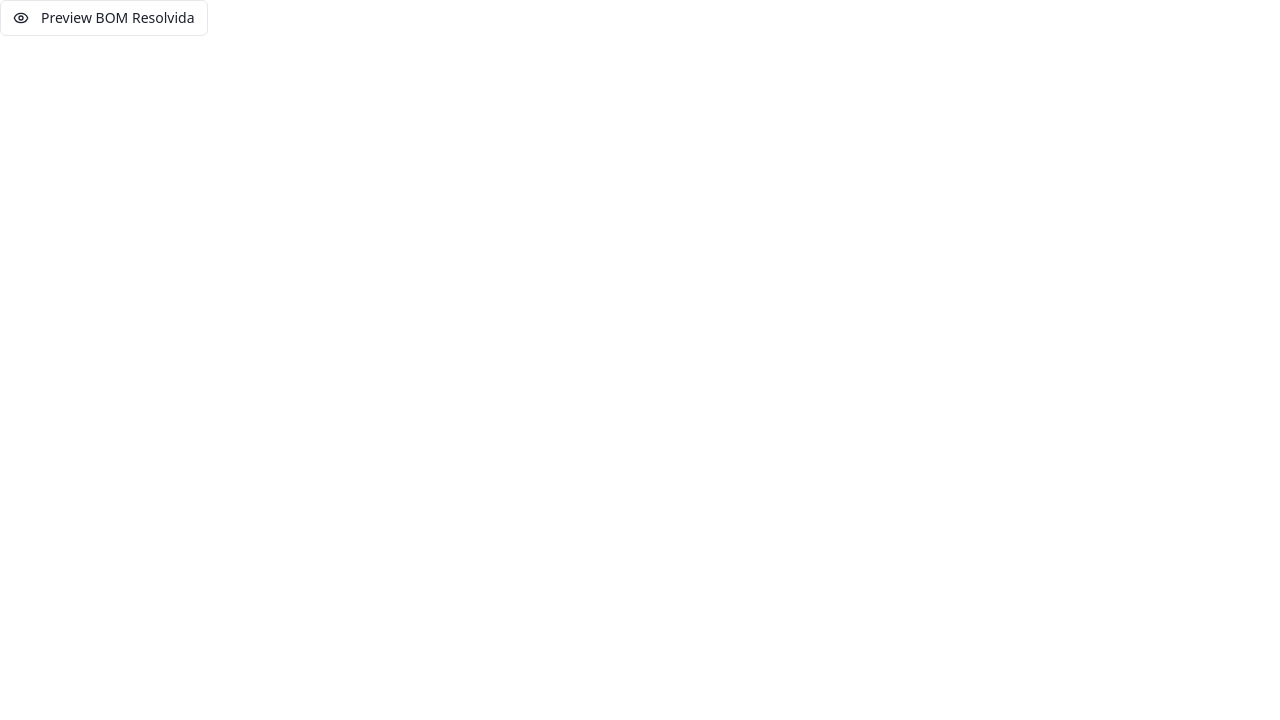
Scenario: BomResolvedPreview › Override chama bom_upsert_line com parent_bom_line_id e inheritance_action=override
The image size is (1280, 720).
Later steps or results of the test are not shown.
Click the button "Preview BOM Resolvida" at (104, 18), box [0, 0, 208, 36]
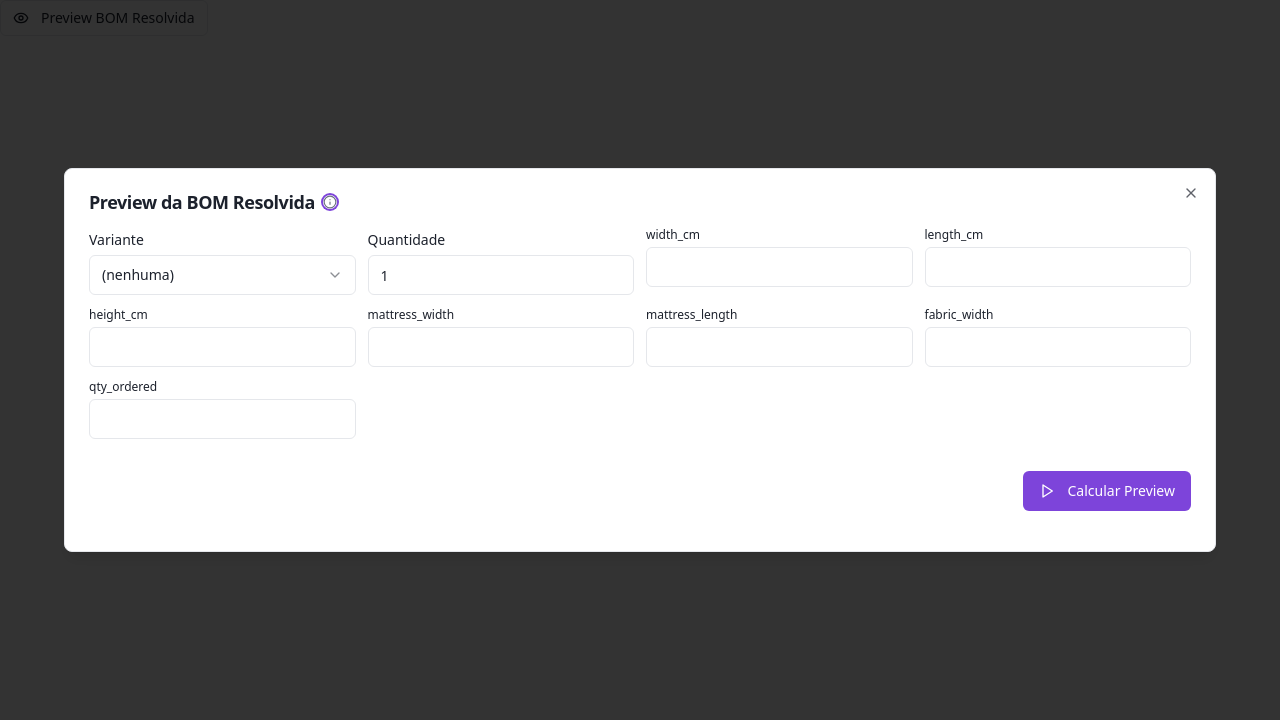
Check: the heading "Preview da BOM Resolvida" is shown, box [89, 190, 337, 214]
